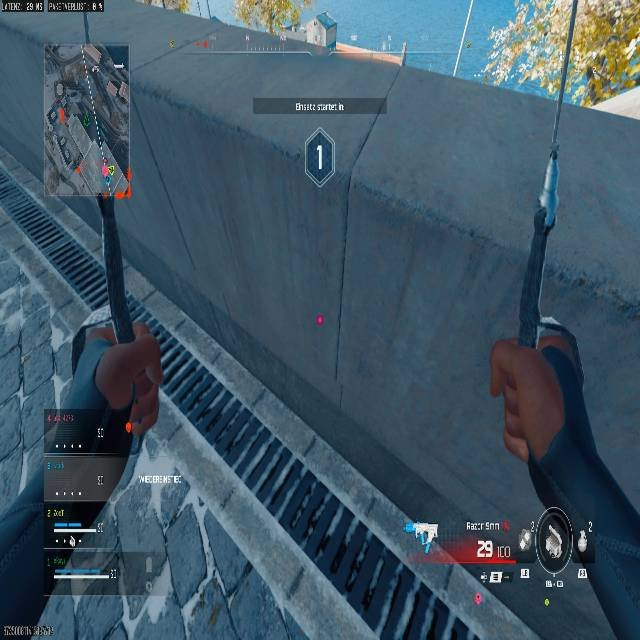head: (32, 12, 627, 639)
